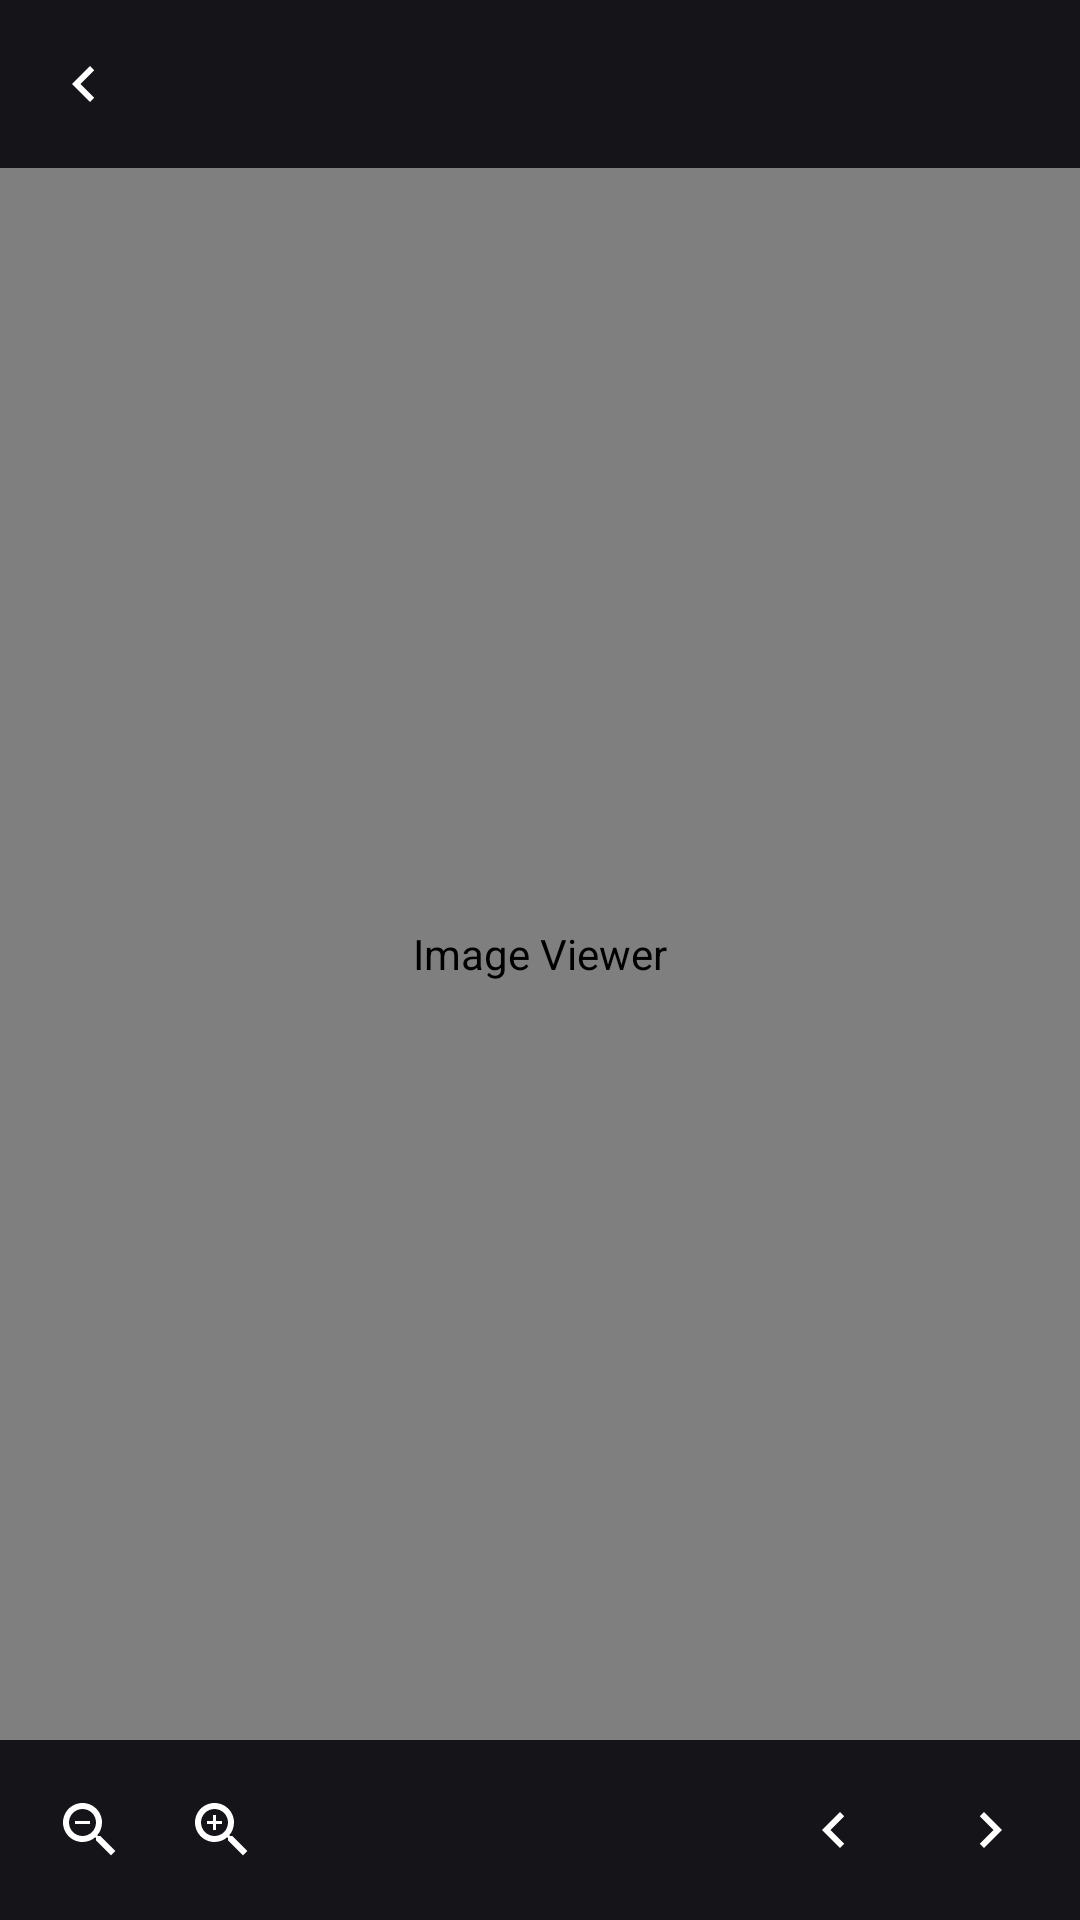

Screen size 1080px×1920px. Icon name, then its box in pixels as detection(x1, y1, x2, y2):
Next: detection(980, 1812, 1002, 1848)
Previous: detection(822, 1812, 844, 1848)
Zoom in: detection(195, 1803, 247, 1855)
Zoom out: detection(63, 1803, 115, 1855)
